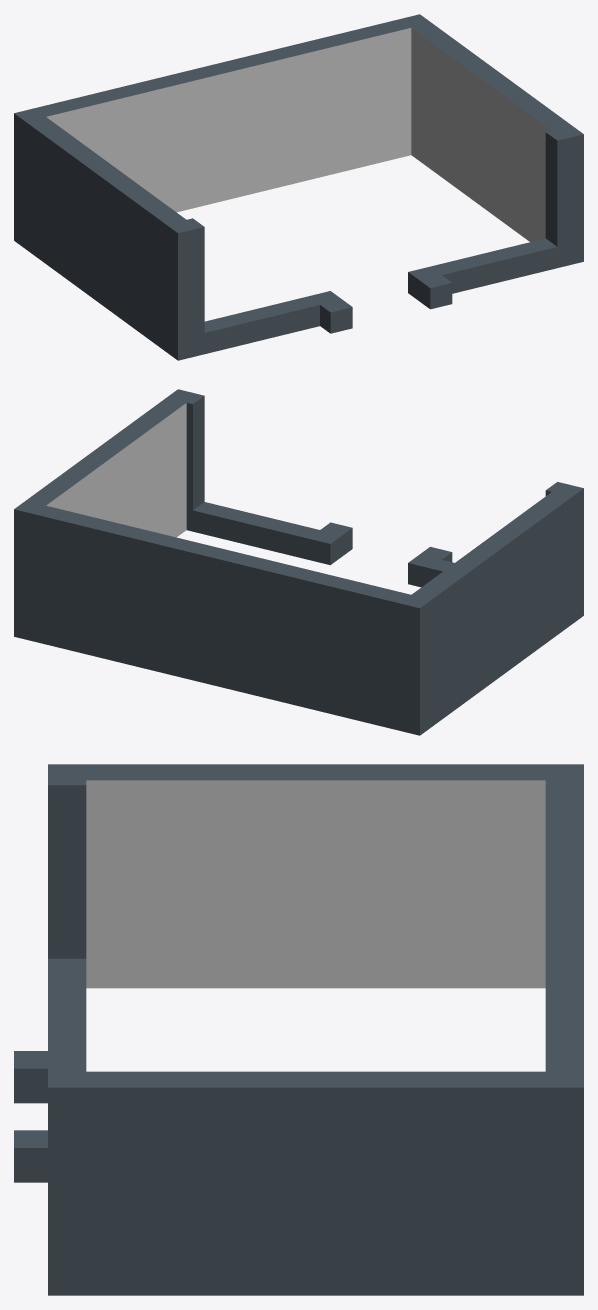
The model's file is Room03_d01.FBX.
The picture shows the model from 3 angles, top to bottom: view 1: azimuth 30°, elevation 25°; view 2: azimuth 150°, elevation 25°; view 3: azimuth 270°, elevation 25°; orthographic projection. The views are drawn at different scales.
Visible parts, largest first — view 1: Room03_d01; view 2: Room03_d01; view 3: Room03_d01.
Boxes of the visible parts, x1,y1,x2,y2 form: Room03_d01: (14,14,583,360); Room03_d01: (14,389,583,735); Room03_d01: (14,764,583,1295).
Bounding box in the file's own units: 1000 × 300 × 745.
